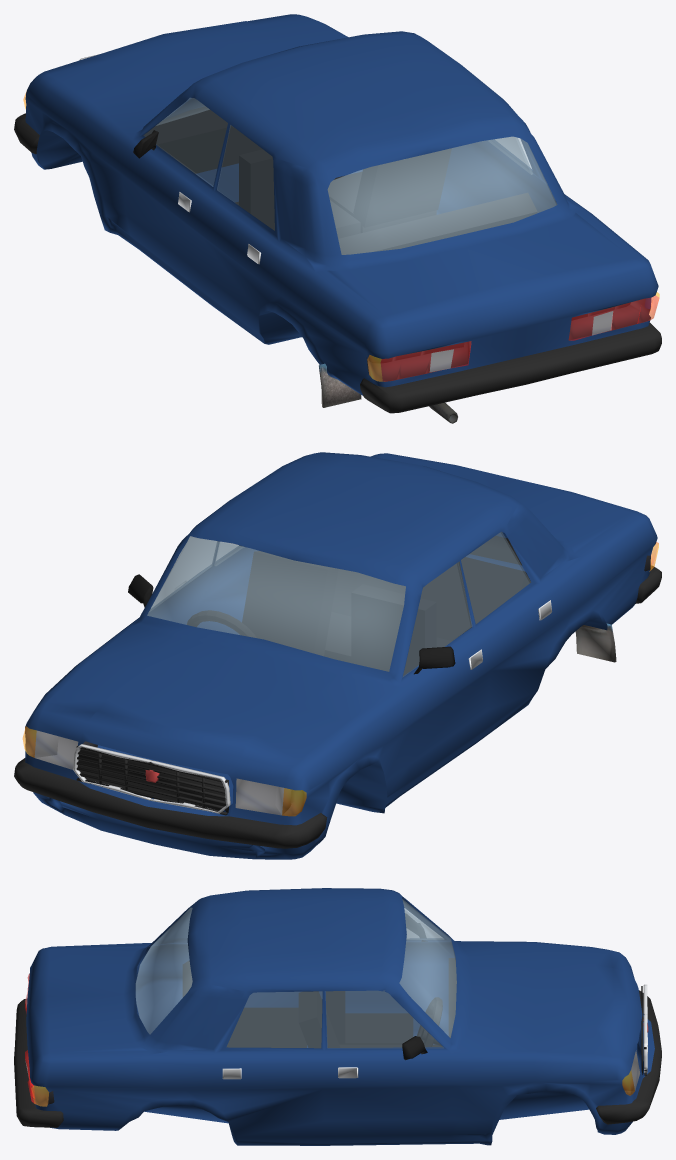
File: volga.glb
3 renders of one model, top to bottom at view 1: azimuth 30°, elevation 25°; view 2: azimuth 150°, elevation 25°; view 3: azimuth 270°, elevation 25°, orthographic. The views are drawn at different scales.
Parts seen in each view (by area): view 1: Кузов, Glass_Rear, Задний бампер, INT_SeatFront_L, INT_SeatRear, Задний фонарь, INT_Dashboard, Glass_SideFront_R, Glass_SideRear_R, INT_SeatFront_R, брызговик, Glass_SideRear_L (+2 smaller); view 2: Кузов, Glass_Windshield, Передний бампер, INT_SeatRear, INT_SeatFront_L, INT_SeatFront_R, Glass_SideFront_R, Glass_SideRear_R, Фара, Решетка_Задник, Glass_SideFront_L, Поворотник (+5 smaller); view 3: Кузов, Glass_SideFront_L, Glass_Windshield, Glass_SideRear_L, Glass_Rear, INT_SeatRear, INT_SeatFront_R, Задний бампер, Передний бампер, INT_SeatFront_L, Задний фонарь, Glass_SideFront_R (+5 smaller).
Boxes of the visible parts, left/top/right/bottom form: Кузов: left=25, top=14, right=658, bottom=395; Glass_Rear: left=327, top=136, right=557, bottom=254; Задний бампер: left=360, top=322, right=661, bottom=413; INT_SeatFront_L: left=328, top=148, right=451, bottom=232; INT_SeatRear: left=338, top=193, right=537, bottom=254; Задний фонарь: left=366, top=292, right=659, bottom=381; INT_Dashboard: left=144, top=107, right=262, bottom=173; Glass_SideFront_R: left=143, top=98, right=227, bottom=186; Glass_SideRear_R: left=217, top=125, right=274, bottom=230; INT_SeatFront_R: left=235, top=149, right=274, bottom=230; брызговик: left=319, top=363, right=361, bottom=407; Glass_SideRear_L: left=488, top=137, right=532, bottom=174; Кузов: left=25, top=452, right=657, bottom=859; Glass_Windshield: left=147, top=536, right=405, bottom=671; Передний бампер: left=14, top=758, right=327, bottom=848; INT_SeatRear: left=324, top=557, right=530, bottom=662; INT_SeatFront_L: left=242, top=551, right=338, bottom=655; INT_SeatFront_R: left=351, top=584, right=436, bottom=675; Glass_SideFront_R: left=403, top=562, right=472, bottom=676; Glass_SideRear_R: left=458, top=532, right=530, bottom=623; Фара: left=35, top=731, right=291, bottom=815; Решетка_Задник: left=79, top=749, right=228, bottom=812; Glass_SideFront_L: left=149, top=536, right=217, bottom=611; Поворотник: left=22, top=726, right=306, bottom=816; Кузов: left=26, top=888, right=654, bottom=1145; Glass_SideFront_L: left=325, top=990, right=443, bottom=1048; Glass_Windshield: left=399, top=899, right=456, bottom=1037; Glass_SideRear_L: left=227, top=991, right=322, bottom=1048; Glass_Rear: left=135, top=907, right=192, bottom=1034; INT_SeatRear: left=183, top=960, right=306, bottom=1047; INT_SeatFront_R: left=326, top=991, right=412, bottom=1044; Задний бампер: left=14, top=999, right=63, bottom=1127; Передний бампер: left=596, top=990, right=661, bottom=1124; INT_SeatFront_L: left=299, top=991, right=339, bottom=1047; Задний фонарь: left=25, top=974, right=54, bottom=1106; Glass_SideFront_R: left=405, top=909, right=443, bottom=939.
Bounding box in the file's own units: 0.4833 × 0.2914 × 1.
Materials: 15 (2 with a texture image).
